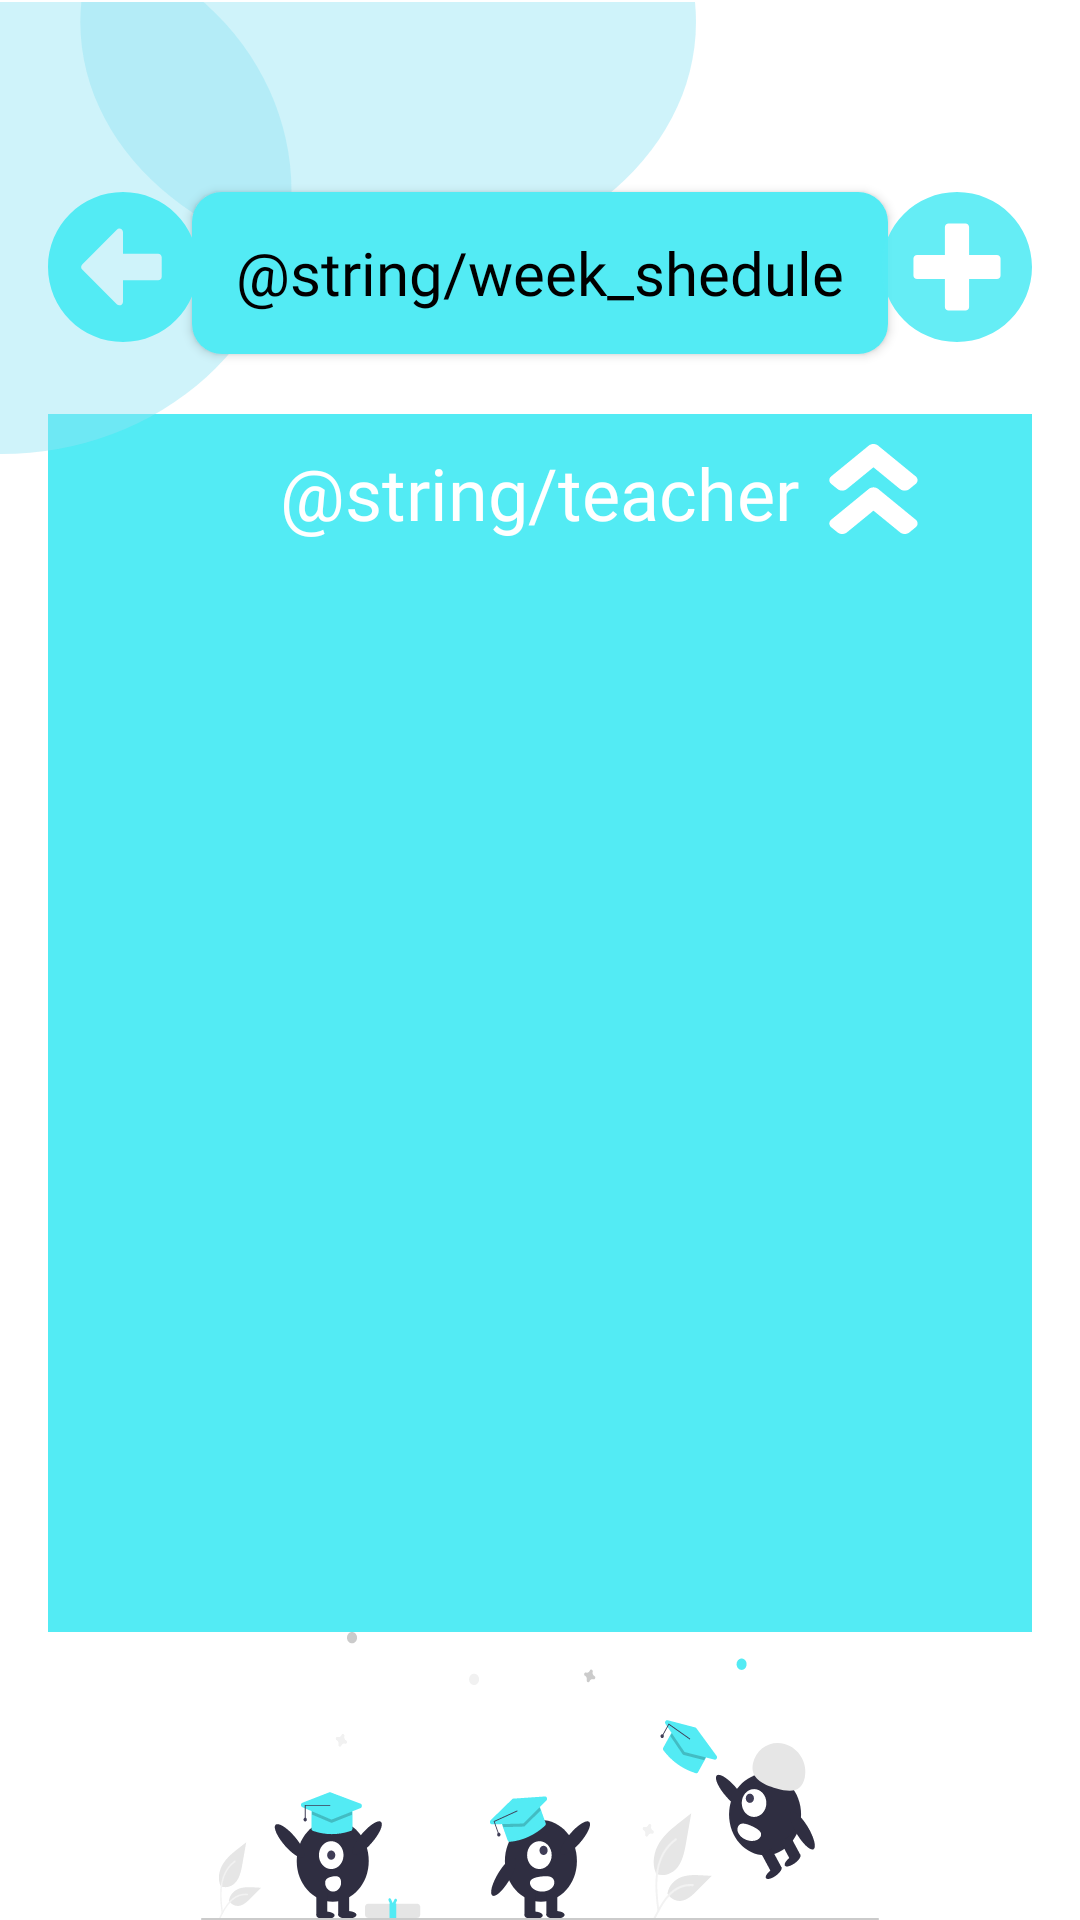

Icon bounding boxes for this 1080 x 1920 phone screenshot, format (x1, y1, x2, y2):
add botton: (882, 192, 1032, 342)
back: (48, 192, 198, 342)
higher: (829, 444, 918, 534)
